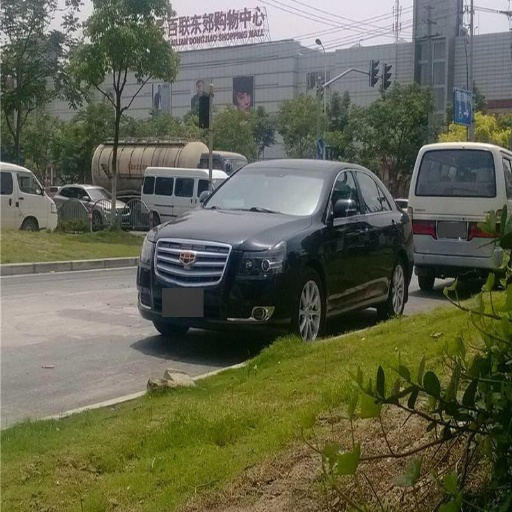front_bumper: (138, 240, 293, 322)
front_glass: (207, 164, 325, 214)
front_left_door: (328, 166, 370, 302)
